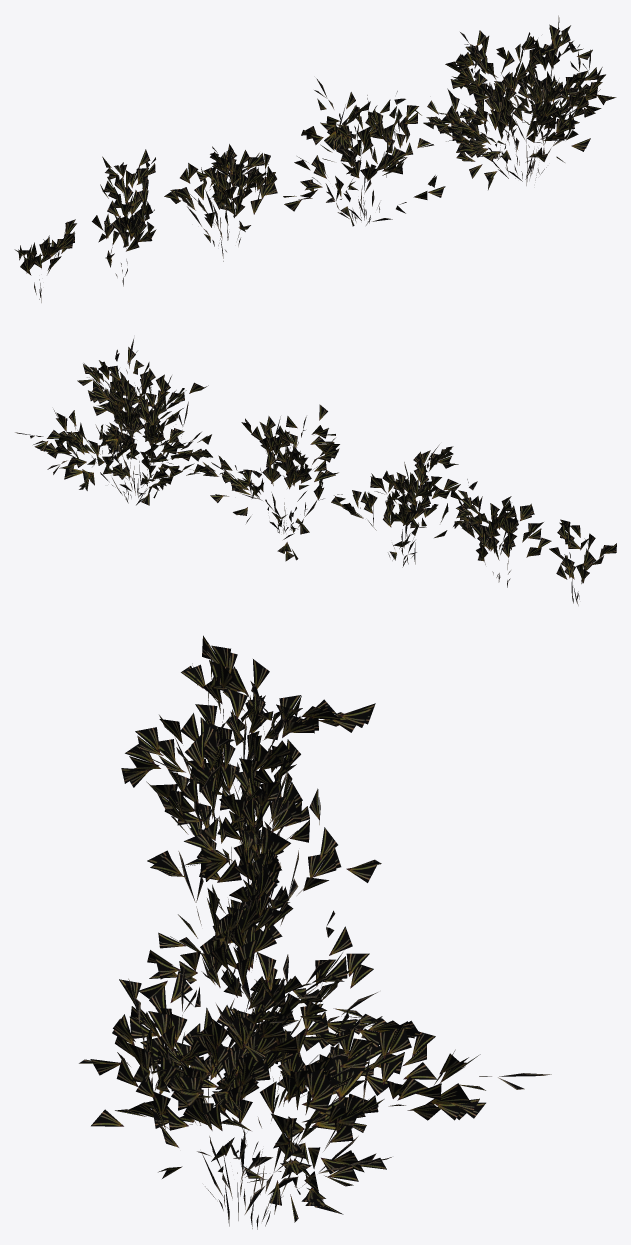
The model's file is veg_veg_scrub_wild_rooibos_bush.glb.
3 views of the same model, one above another, from view 1: azimuth 30°, elevation 25°; view 2: azimuth 150°, elevation 25°; view 3: azimuth 270°, elevation 25° (orthographic). The views are drawn at different scales.
Parts seen in each view (by area): view 1: veg_scrub_wild_rooibos_bush; view 2: veg_scrub_wild_rooibos_bush; view 3: veg_scrub_wild_rooibos_bush.
Boxes of the visible parts, x1,y1,x2,y2 form: veg_scrub_wild_rooibos_bush: (14,15,616,302); veg_scrub_wild_rooibos_bush: (15,339,616,605); veg_scrub_wild_rooibos_bush: (79,635,551,1229).
Bounding box in the file's own units: 4.08 × 0.9754 × 1.51.
Materials: 3 (3 with a texture image).
